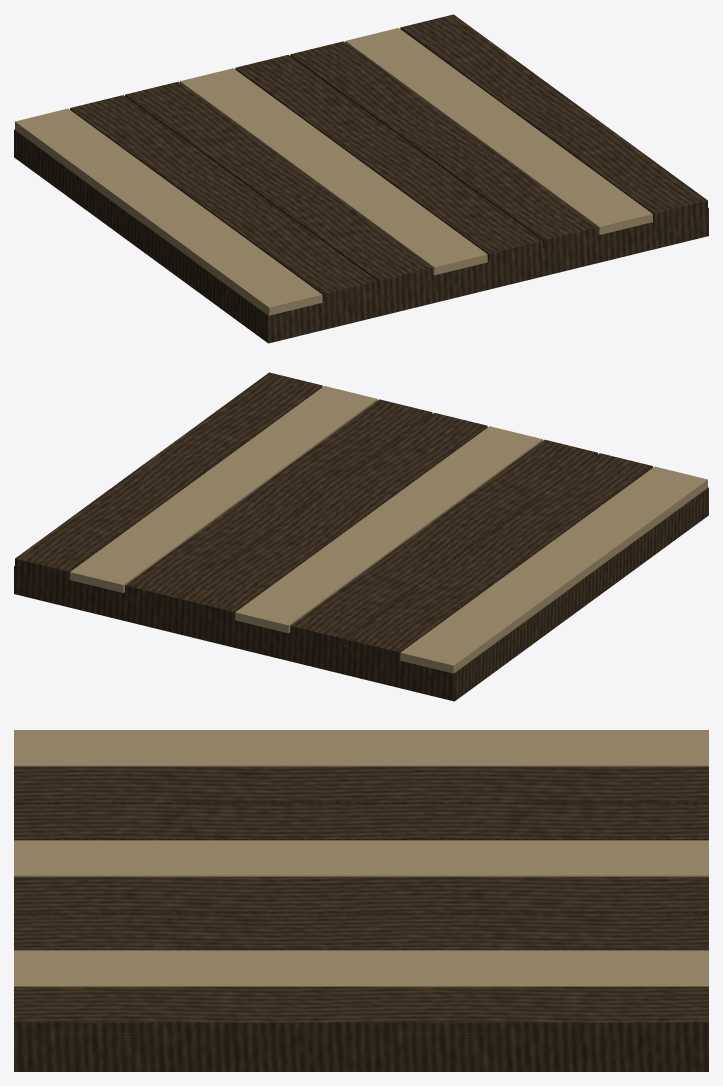
The model's file is Floor_Timber_2x2.glb.
3 views of the same model, one above another, from view 1: azimuth 30°, elevation 25°; view 2: azimuth 150°, elevation 25°; view 3: azimuth 270°, elevation 25° (orthographic). The views are drawn at different scales.
Parts seen in each view (by area): view 1: Floor_Timber_2x2; view 2: Floor_Timber_2x2; view 3: Floor_Timber_2x2.
Part boxes in pixels (box(x1,y1,x2,y2)): Floor_Timber_2x2: box(14, 14, 708, 343); Floor_Timber_2x2: box(14, 372, 708, 701); Floor_Timber_2x2: box(14, 730, 708, 1071).
Bounding box in the file's own units: 2 × 0.1545 × 2.
Materials: 2 (1 with a texture image).
